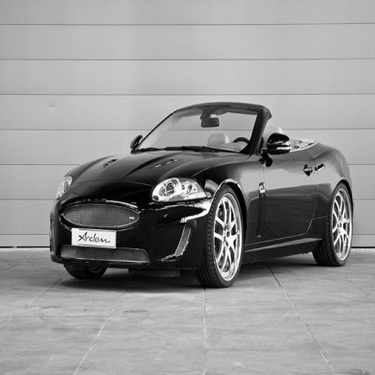car: (21, 83, 359, 279)
